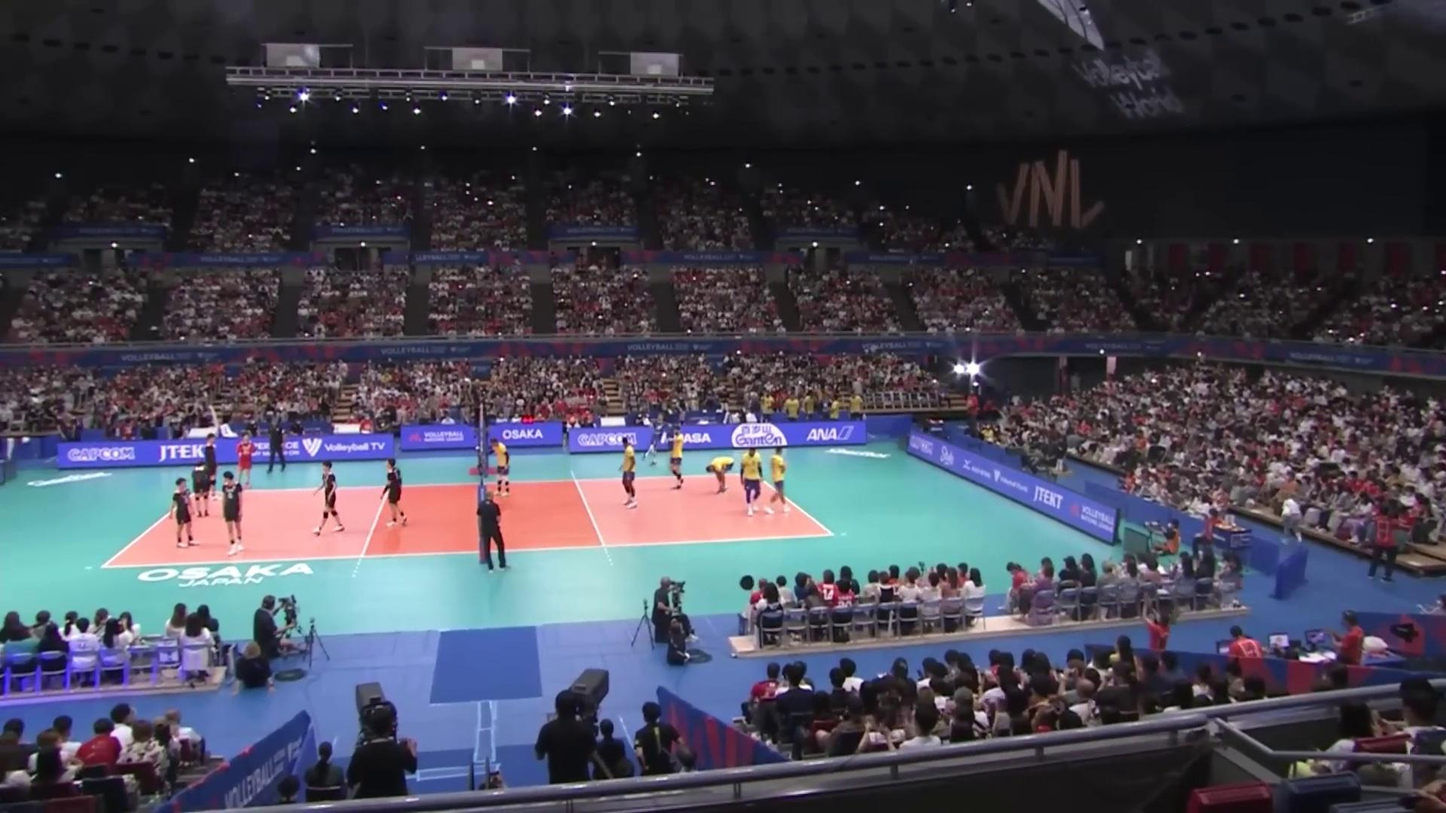player: (313, 461, 343, 534), (221, 470, 246, 555), (171, 477, 197, 549), (766, 447, 792, 516), (382, 459, 407, 527), (740, 447, 763, 514), (618, 437, 640, 507), (639, 413, 667, 467), (490, 436, 511, 498), (668, 425, 687, 490), (203, 434, 221, 498), (192, 460, 212, 517), (236, 433, 255, 492), (706, 455, 735, 492)
refree: (475, 491, 508, 571), (470, 379, 490, 423)
